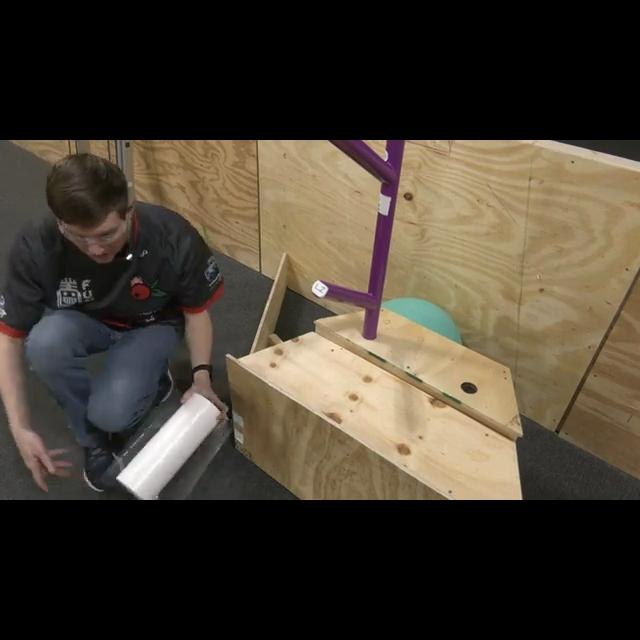CORAL: (114, 391, 222, 499)
